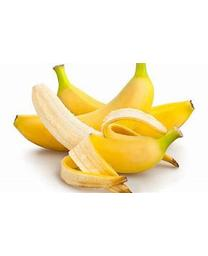banana: (18, 56, 193, 191)
